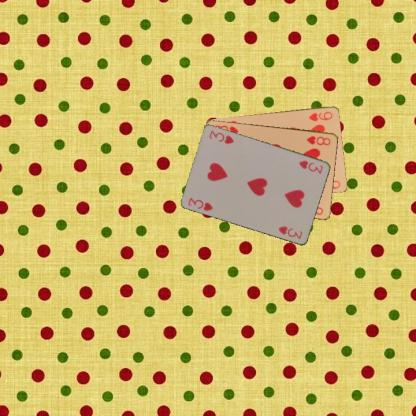3h: (186, 195, 214, 212), (297, 158, 324, 175)
8h: (304, 133, 332, 146)
9h: (306, 108, 334, 122)
